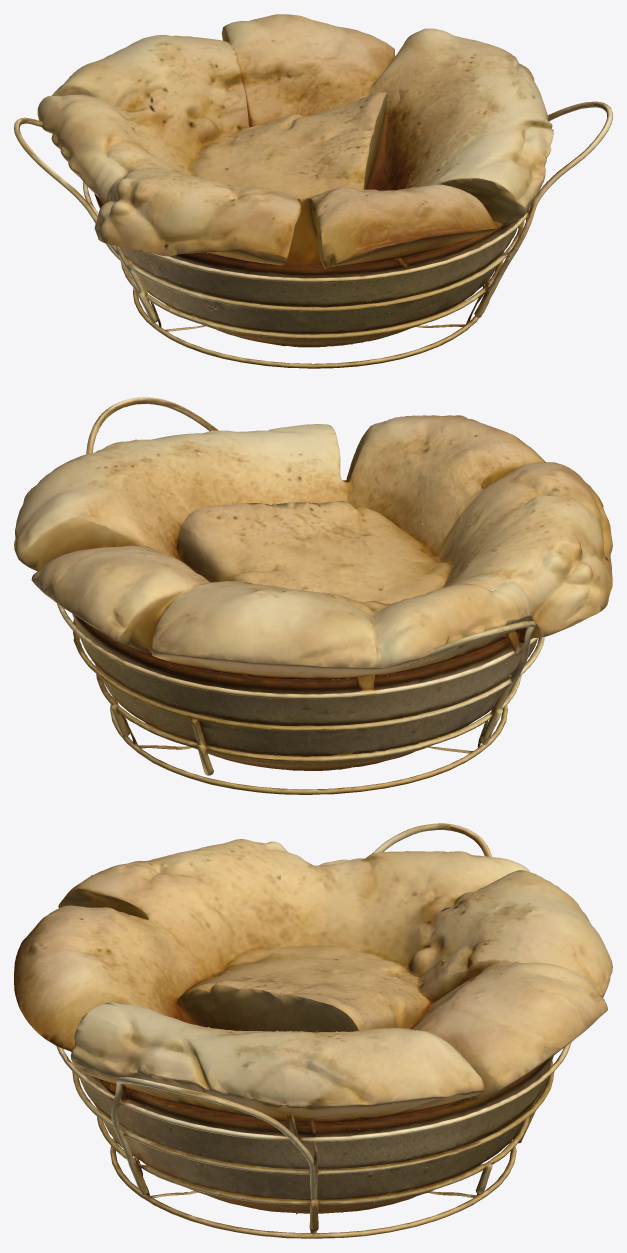
File: chapchak.glb
3 renders of one model, top to bottom at view 1: azimuth 30°, elevation 25°; view 2: azimuth 150°, elevation 25°; view 3: azimuth 270°, elevation 25°, orthographic. The views are drawn at different scales.
Visible parts, largest first — view 1: bb_f9a0; view 2: bb_f9a0; view 3: bb_f9a0.
Boxes of the visible parts, left/top/right/bottom form: bb_f9a0: left=14, top=14, right=612, bottom=368; bb_f9a0: left=14, top=397, right=612, bottom=794; bb_f9a0: left=14, top=823, right=612, bottom=1238.
Bounding box in the file's own units: 0.9998 × 0.405 × 0.953.
1 material, 1 textured.
